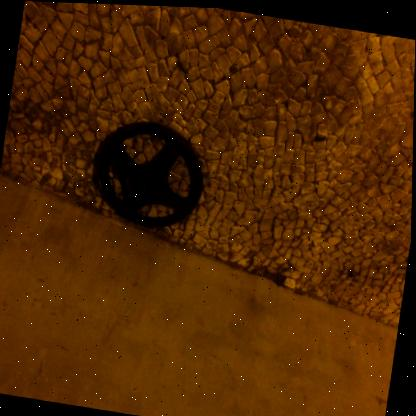Plastic: (100, 120, 204, 227)
Waste: (315, 181, 318, 185)
